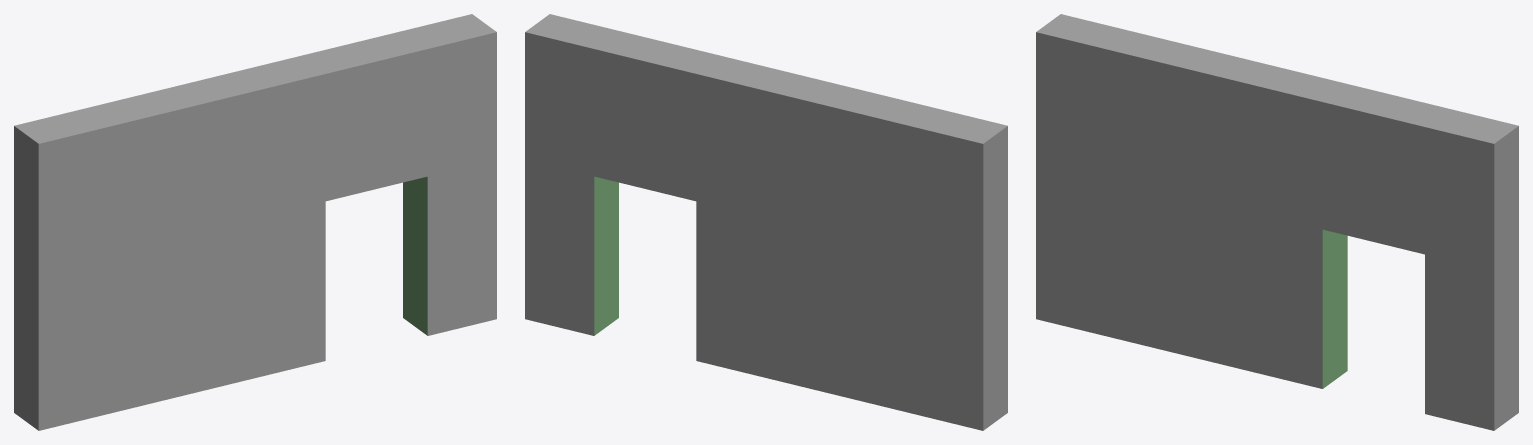
Rendered from WallWithDoorway.fbx.
The picture shows the model from 3 angles, left to right: view 1: azimuth 30°, elevation 25°; view 2: azimuth 150°, elevation 25°; view 3: azimuth 330°, elevation 25°; orthographic projection.
Parts seen in each view (by area): view 1: WallWithDoorway; view 2: WallWithDoorway; view 3: WallWithDoorway.
Boxes of the visible parts, x1,y1,x2,y2 form: WallWithDoorway: (14, 14, 496, 430); WallWithDoorway: (525, 14, 1007, 430); WallWithDoorway: (1036, 14, 1518, 430).
Size of the model in its own units: 8.96 by 5.36 by 0.8398.
